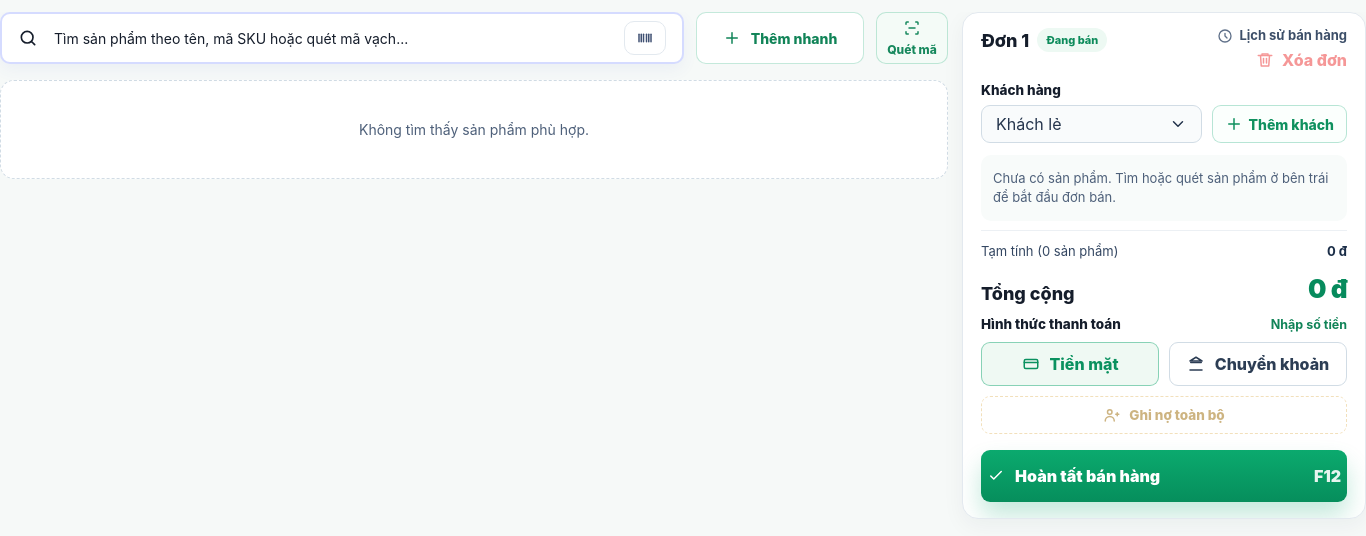
Scenario: SaleCheckoutForm › searches Vietnamese product names and requests each page from the server
Type "Cà phê" into the field named "Tìm hoặc quét sản phẩm" at (331, 38), box [52, 28, 610, 48]
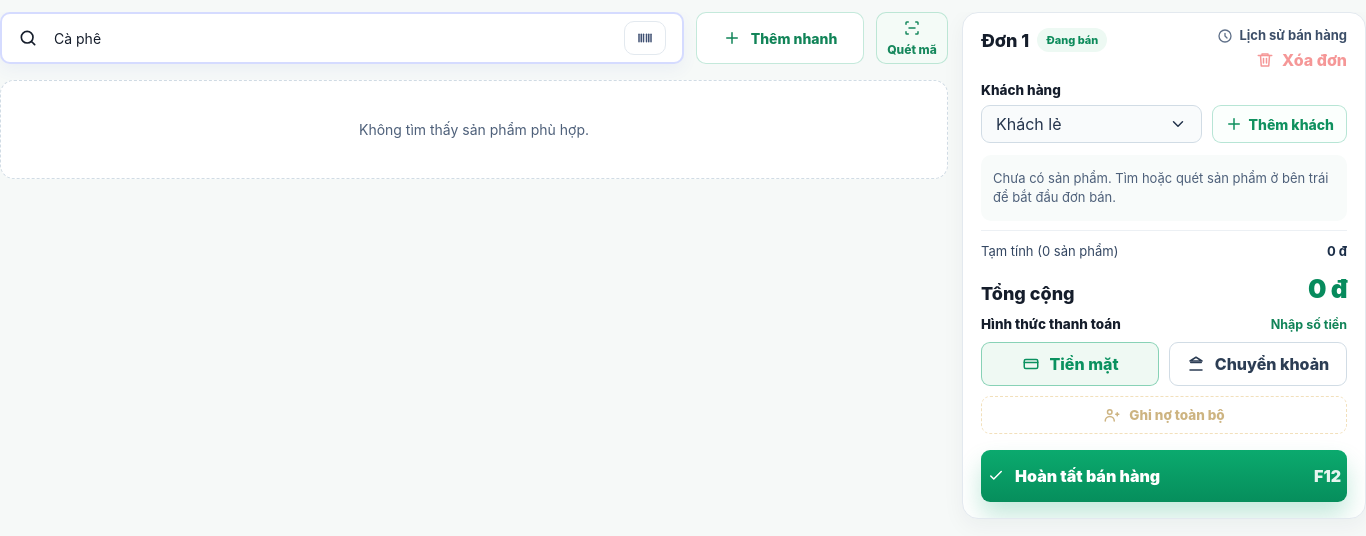
Submit the form, box [0, 12, 948, 64]
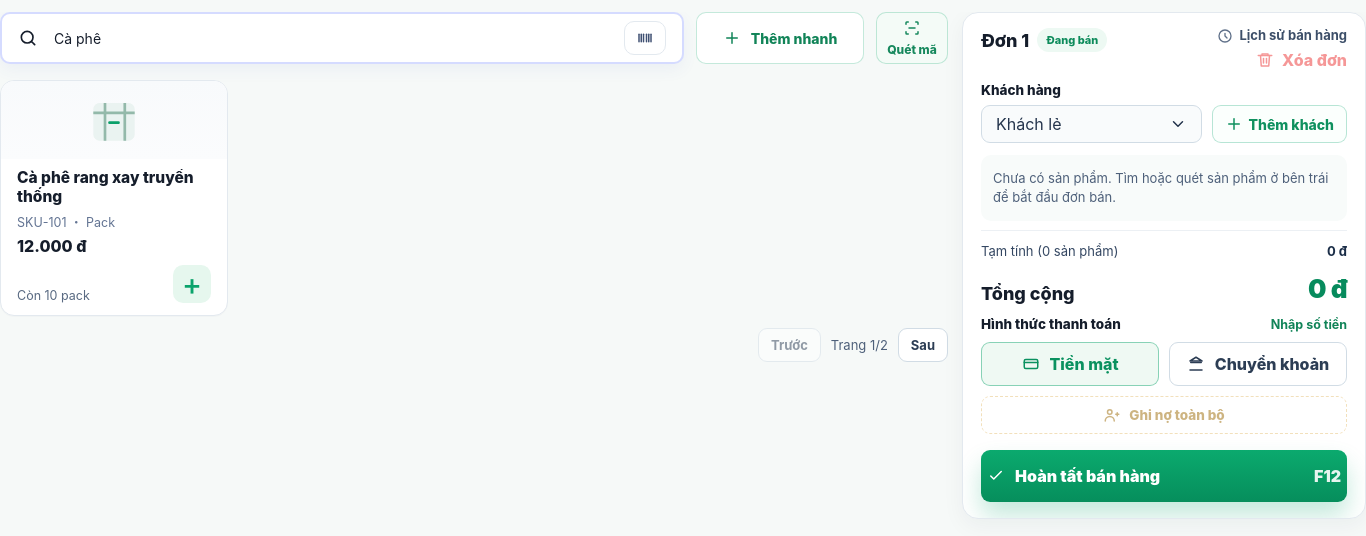
Now the text "Cà phê rang xay truyền thống" is shown, box [17, 169, 211, 207]
Click the button "Sau" at (923, 345), box [898, 328, 948, 362]
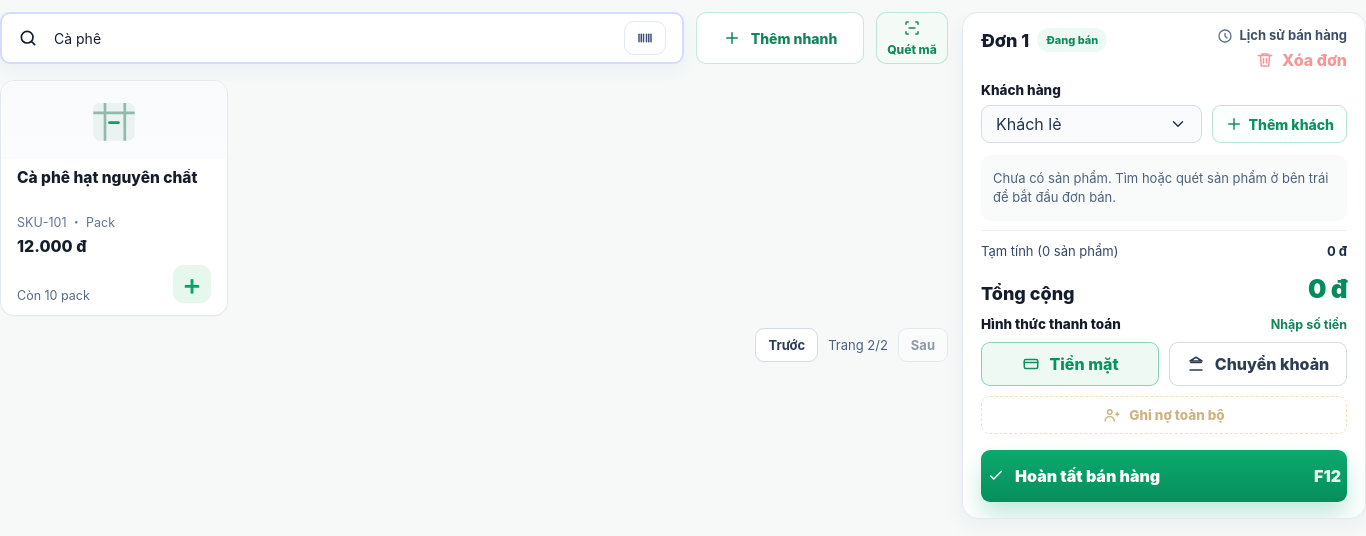
Now the text "Cà phê hạt nguyên chất" is shown, box [17, 168, 197, 187]
Now the text "Cà phê rang xay truyền thống" is gone
